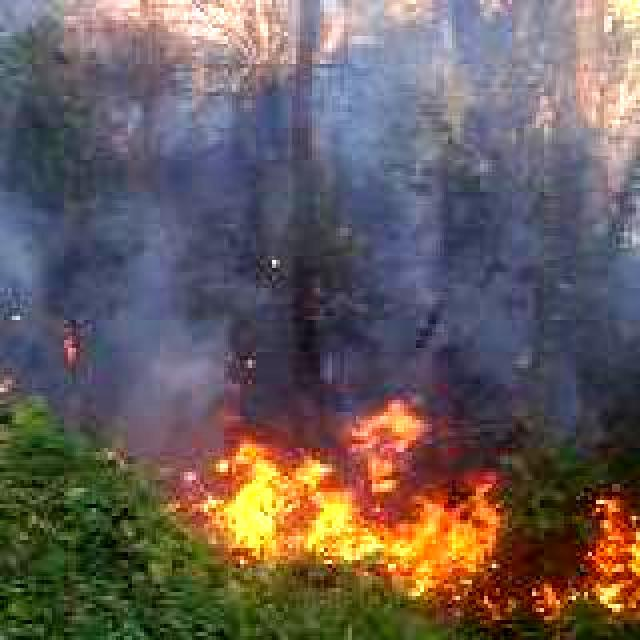smoke: (278, 41, 608, 439), (0, 0, 226, 442)
